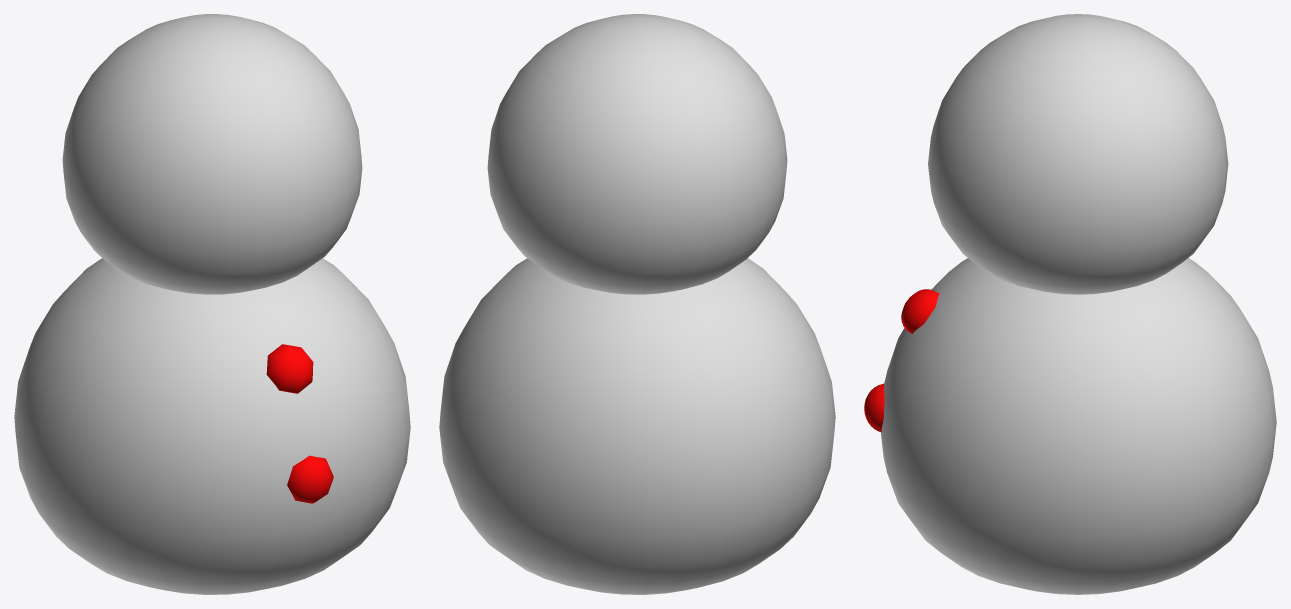
File: snowman.glb
3 renders of one model, left to right at view 1: azimuth 30°, elevation 25°; view 2: azimuth 150°, elevation 25°; view 3: azimuth 270°, elevation 25°, orthographic.
Visible parts, largest first — view 1: Sphere.012; view 2: Sphere.012; view 3: Sphere.012.
Boxes of the visible parts, x1,y1,x2,y2 form: Sphere.012: (14, 14, 410, 594); Sphere.012: (439, 14, 835, 594); Sphere.012: (864, 14, 1276, 594).
Bounding box in the file's own units: 1.32 × 1.95 × 1.37.
